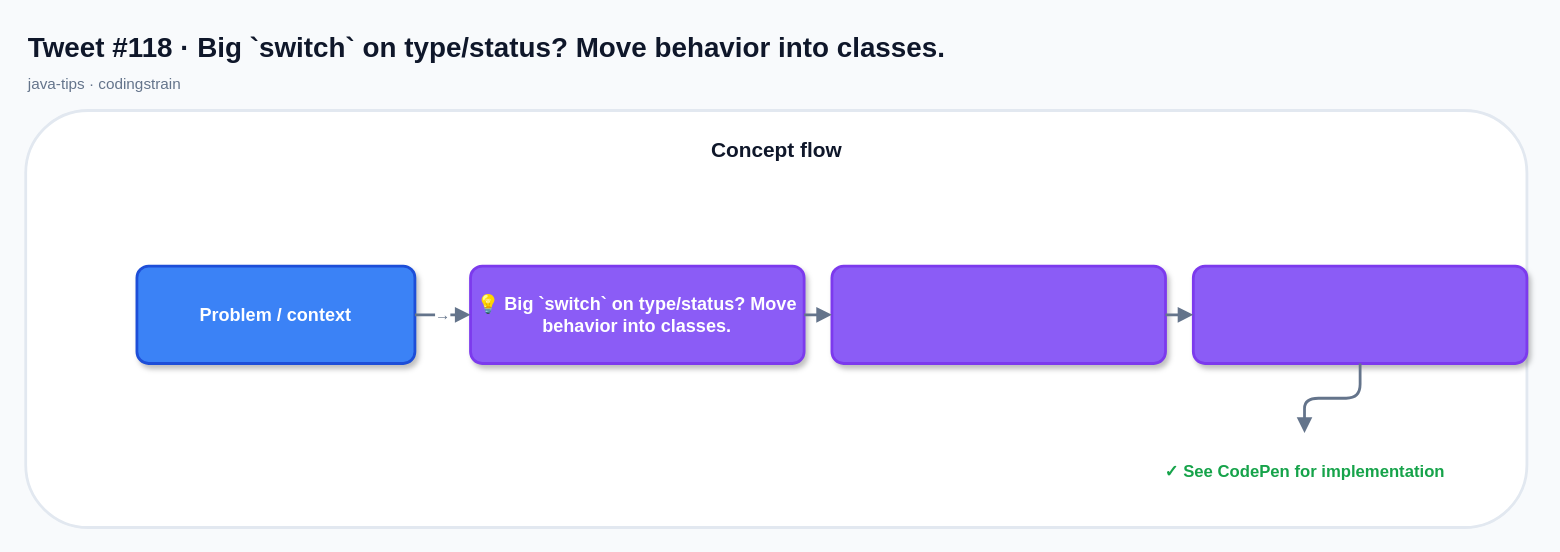
Image size: 1560x552. Some labels were removed from this diagram. Each missing label, with the centre of its shape:
"Every new case means editing the same method again" goes at (x=999, y=316).
"Polymorphism: each type implements its own behavior" goes at (x=1361, y=316).
